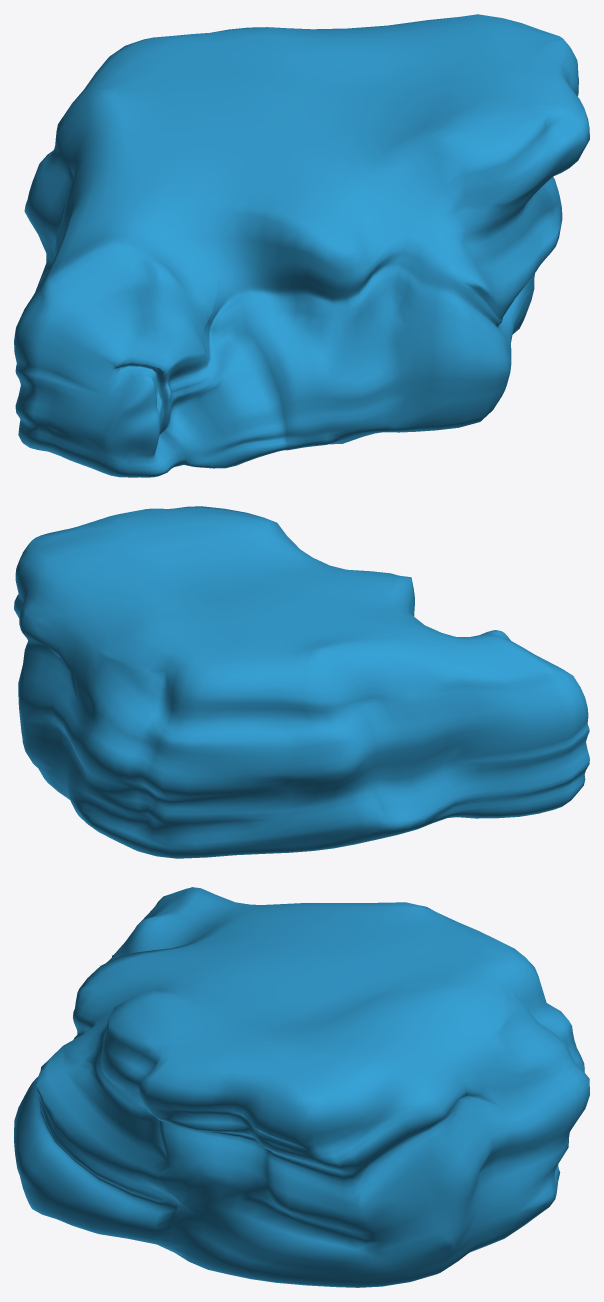
File: Rock_03_Lod0.fbx
3 views of the same model, one above another, from view 1: azimuth 30°, elevation 25°; view 2: azimuth 150°, elevation 25°; view 3: azimuth 270°, elevation 25° (orthographic). The views are drawn at different scales.
Parts seen in each view (by area): view 1: Rock_03_Lod0; view 2: Rock_03_Lod0; view 3: Rock_03_Lod0.
Part boxes in pixels (box(x1,y1,x2,y2)): Rock_03_Lod0: box(14, 14, 589, 477); Rock_03_Lod0: box(14, 506, 589, 858); Rock_03_Lod0: box(14, 887, 589, 1287).
Size of the model in its own units: 2944 by 1249 by 2463.
